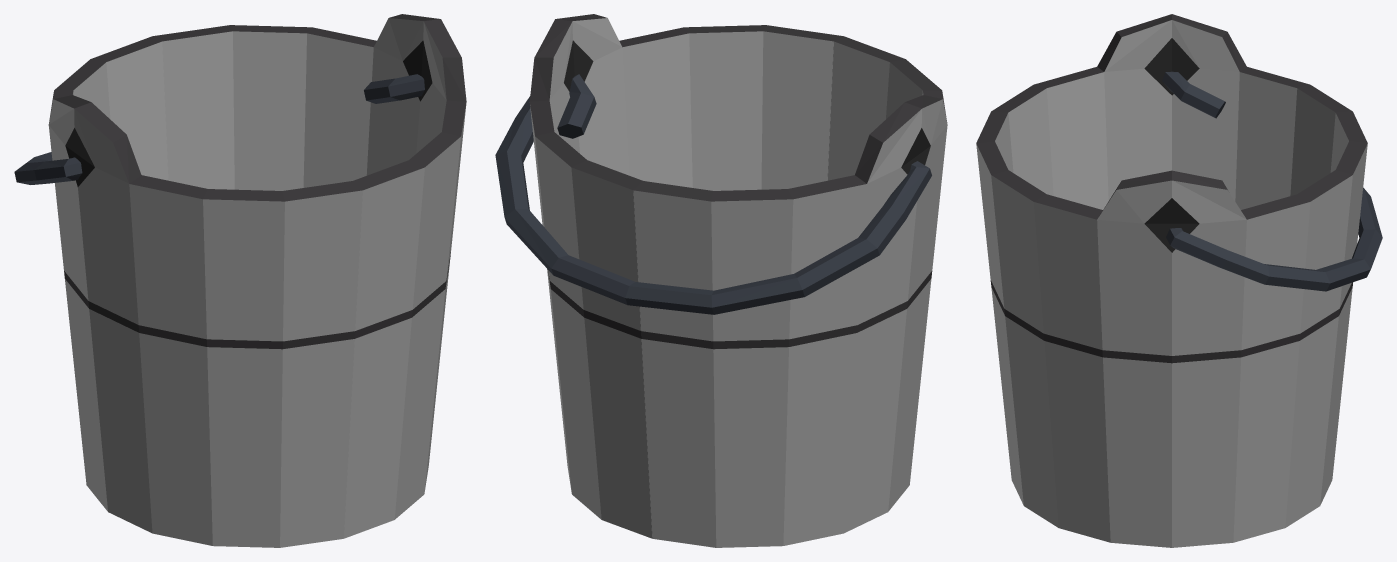
The model's file is SM_bucket_metal.gltf.
3 views of the same model, side by side, from view 1: azimuth 30°, elevation 25°; view 2: azimuth 150°, elevation 25°; view 3: azimuth 270°, elevation 25° (orthographic). The views are drawn at different scales.
Parts seen in each view (by area): view 1: SM_bucket_metal; view 2: SM_bucket_metal; view 3: SM_bucket_metal.
Part boxes in pixels (x1,y1,x2,y2): SM_bucket_metal: (14,14,466,547); SM_bucket_metal: (495,14,947,547); SM_bucket_metal: (976,14,1382,547).
Size of the model in its own units: 0.3998 by 0.4071 by 0.3897.
Materials: 1 (1 with a texture image).
